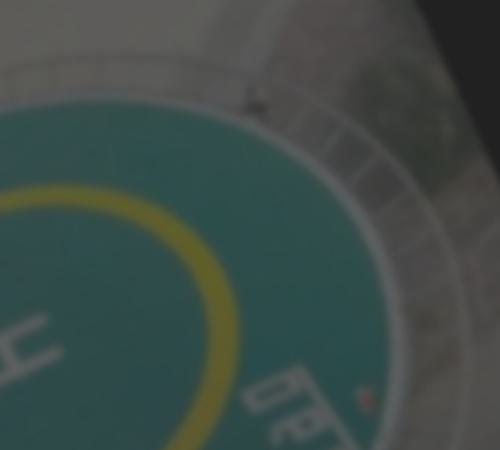Apron: (1, 170, 281, 450)
